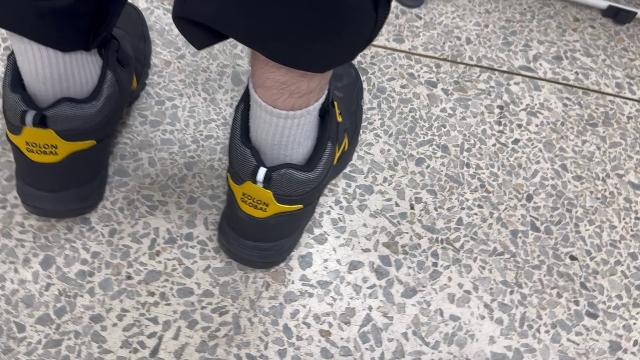shoe_worn: (215, 62, 371, 274), (2, 5, 155, 218)
